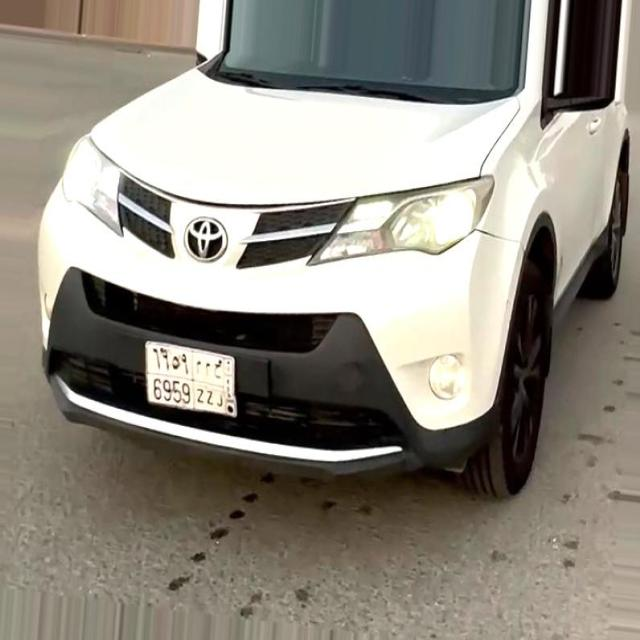Car-plate: (132, 328, 252, 435)
